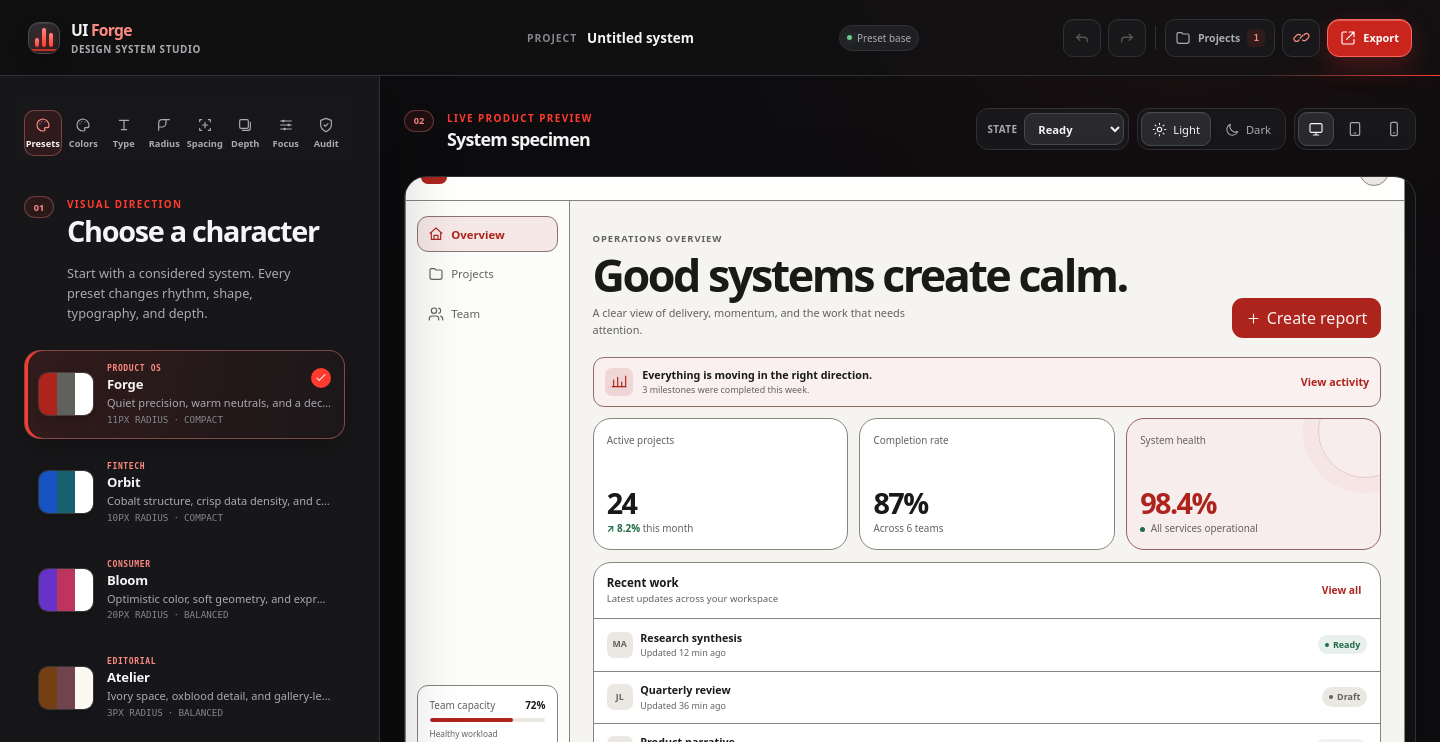
Scenario: UI Forge workspace › edits a color token and marks the theme as customized
Click the button "Colors".
click(83, 133)  # box [64,110,102,156]
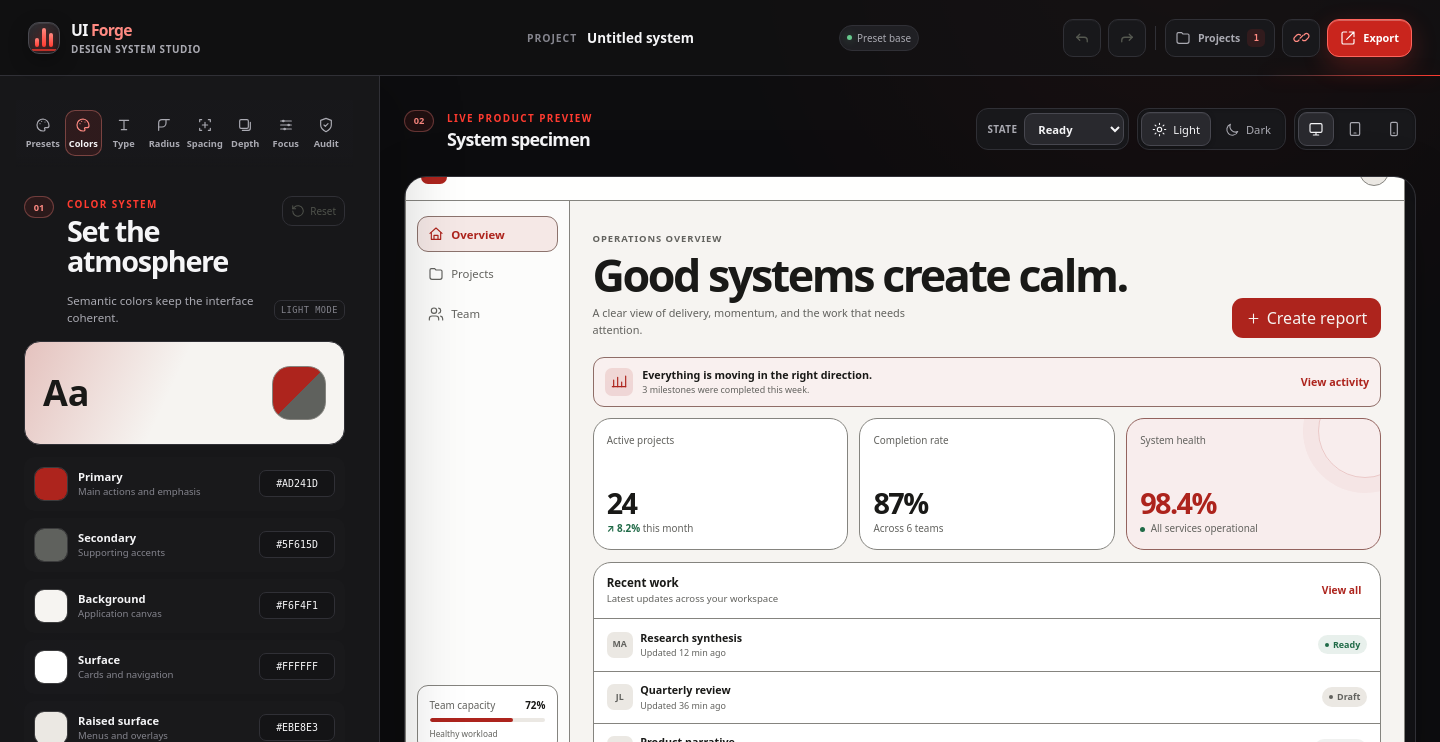
Replace the text in the field named "Primary hexadecimal value" next to "Main actions and emphasis" with "#123456" at (297, 484), box [259,470,335,497]
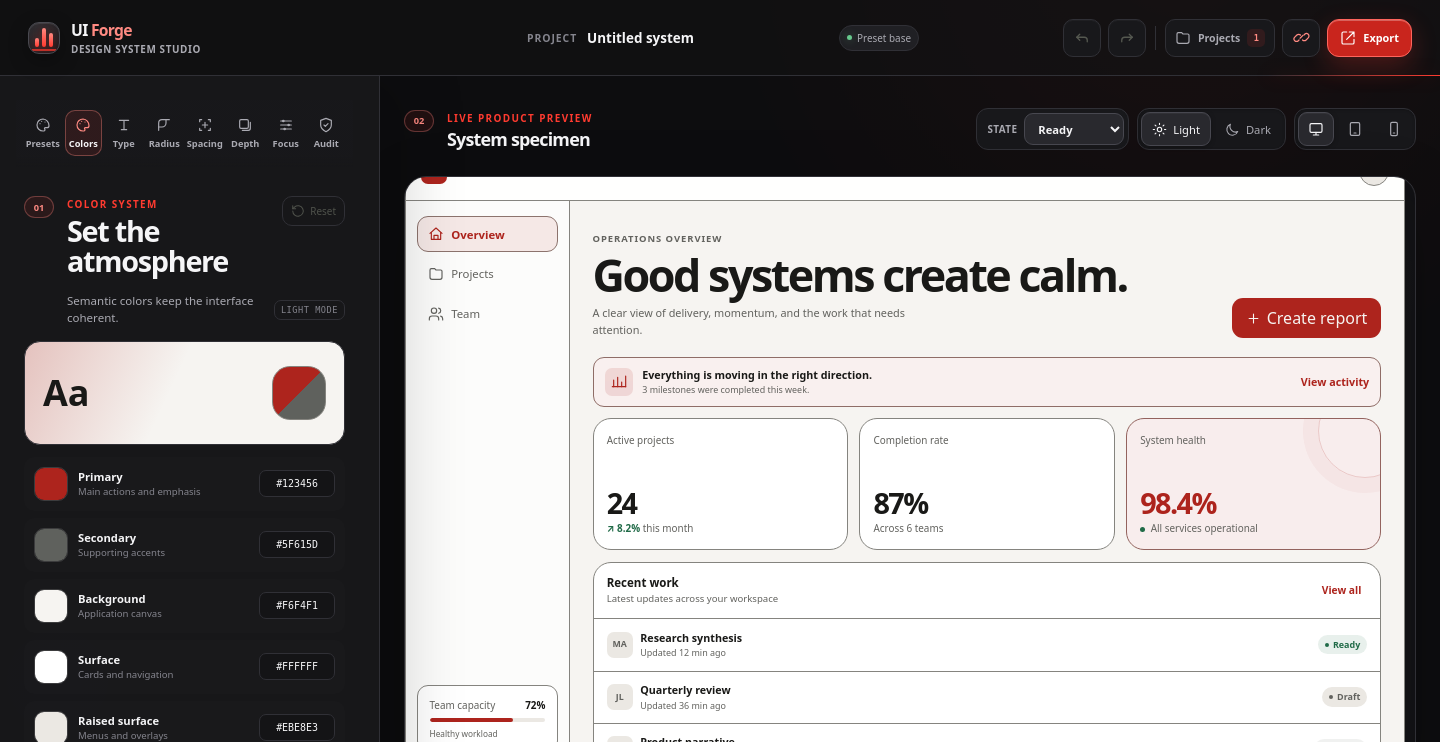
Leave the field named "Primary hexadecimal value" next to "Main actions and emphasis", box [259,470,335,497]
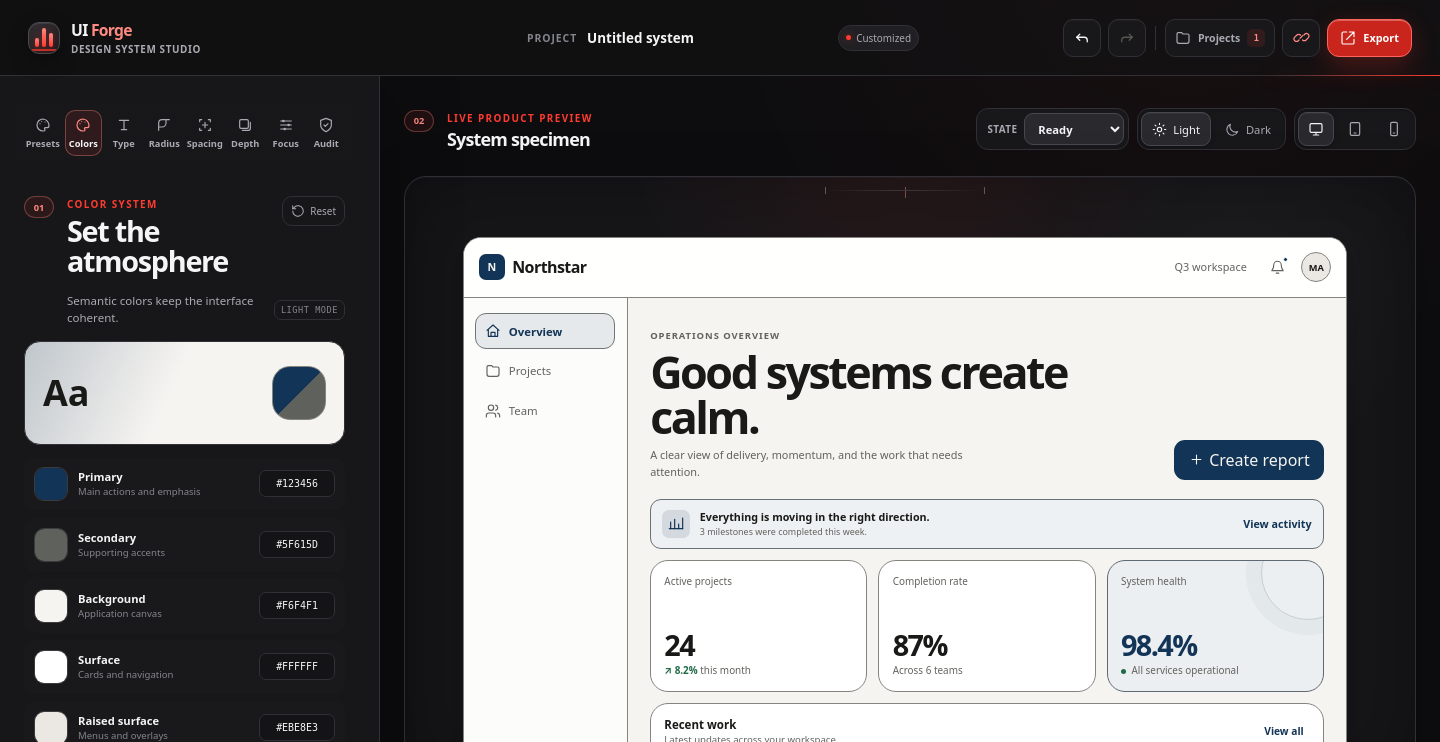
expect the text "Customized" is shown: met, box [838,24,919,50]
